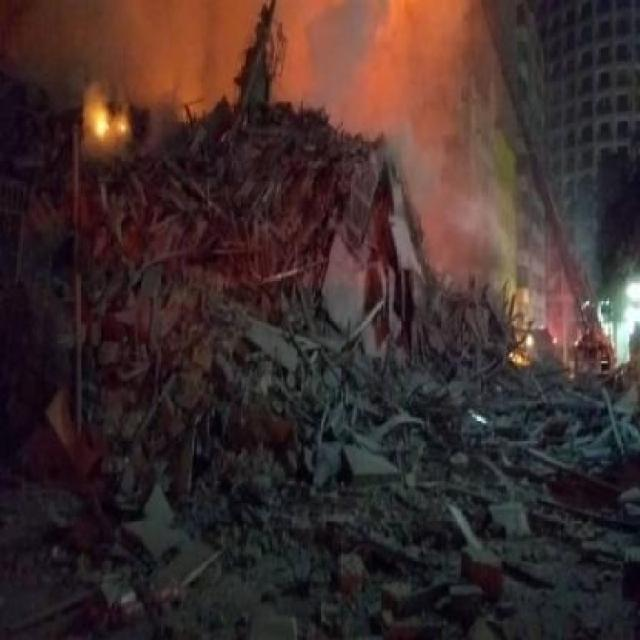Fire: (93, 108, 110, 136), (116, 118, 131, 137)
